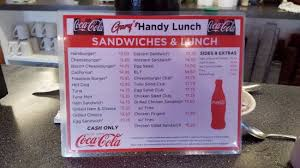coke: (203, 78, 232, 133)
